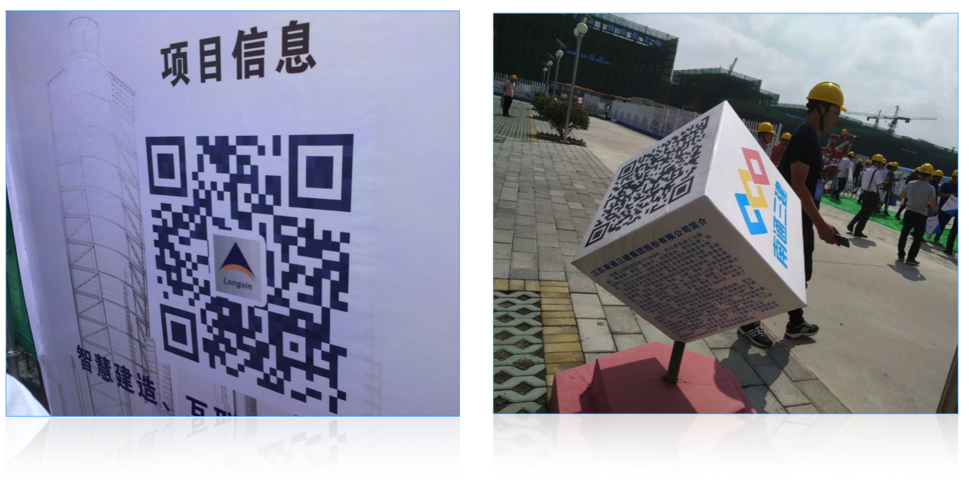QRCode: (140, 121, 367, 417), (586, 115, 717, 253)
